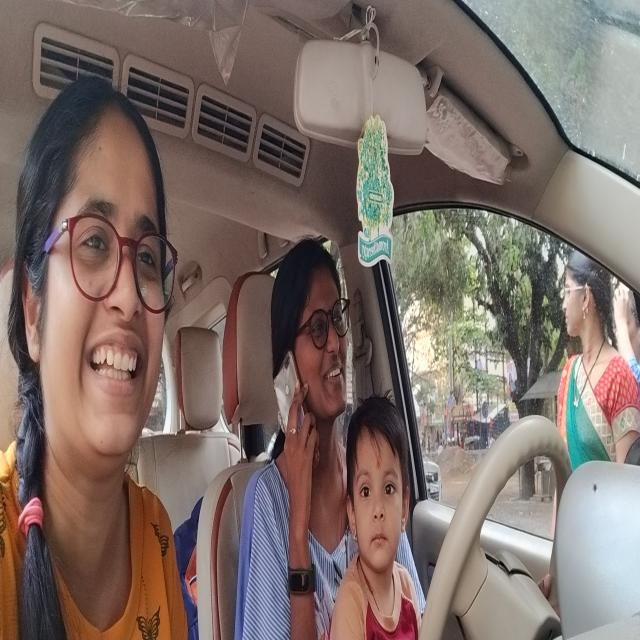child: (343, 392, 413, 586)
mobile: (272, 344, 309, 458)
person: (8, 65, 180, 473), (267, 229, 351, 440)
